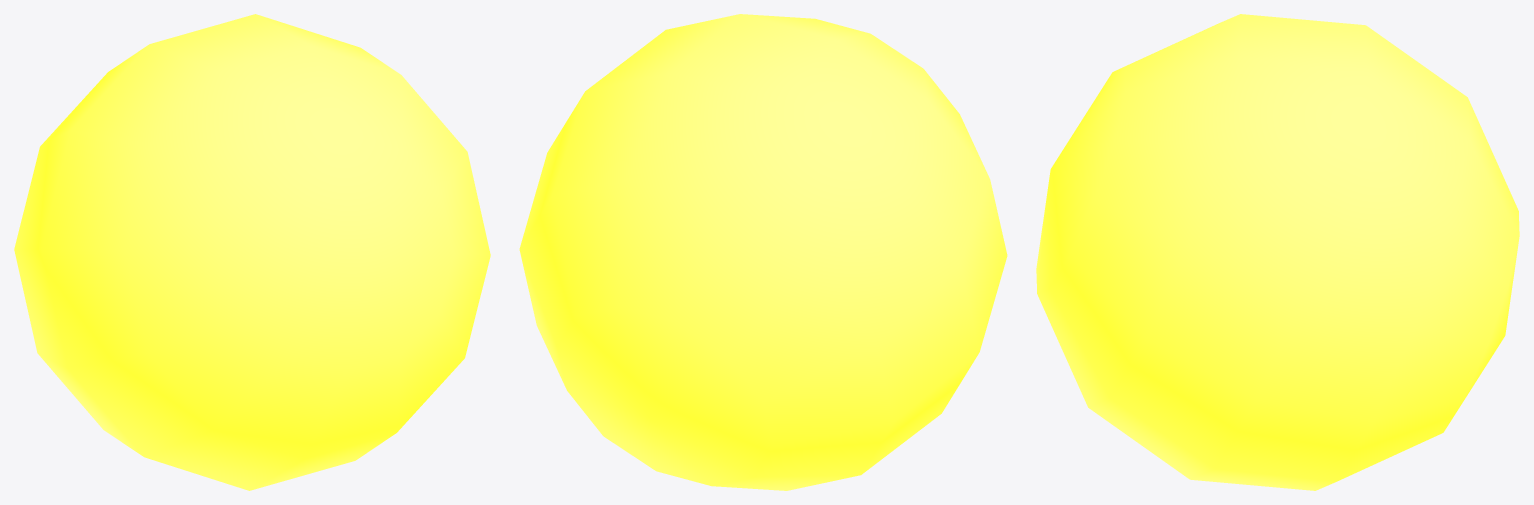
The model's file is IncorporationOf_type03.FBX.
3 views of the same model, side by side, from view 1: azimuth 30°, elevation 25°; view 2: azimuth 150°, elevation 25°; view 3: azimuth 270°, elevation 25° (orthographic). The views are drawn at different scales.
Visible parts, largest first — view 1: IncorporationOf_type03; view 2: IncorporationOf_type03; view 3: IncorporationOf_type03.
Boxes of the visible parts, x1,y1,x2,y2 form: IncorporationOf_type03: (14, 14, 490, 490); IncorporationOf_type03: (519, 14, 1007, 490); IncorporationOf_type03: (1036, 14, 1519, 490).
Size of the model in its own units: 4.42 by 4.4 by 4.47.
